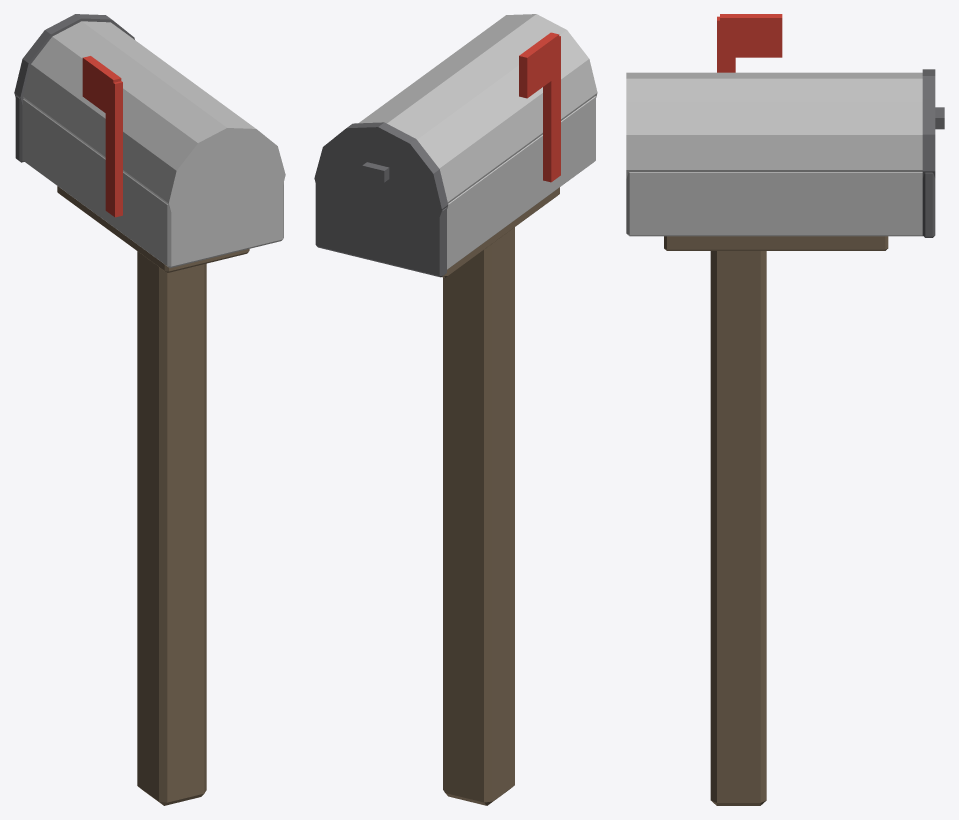
The model's file is mailbox.glb.
The picture shows the model from 3 angles, left to right: view 1: azimuth 30°, elevation 25°; view 2: azimuth 150°, elevation 25°; view 3: azimuth 270°, elevation 25°; orthographic projection. The views are drawn at different scales.
Visible parts, largest first — view 1: mailbox; view 2: mailbox; view 3: mailbox.
Boxes of the visible parts, bbox=[...] form: mailbox: bbox=[14, 14, 285, 805]; mailbox: bbox=[314, 14, 597, 805]; mailbox: bbox=[626, 14, 944, 805].
Size of the model in its own units: 0.2425 by 1.33 by 0.51.
